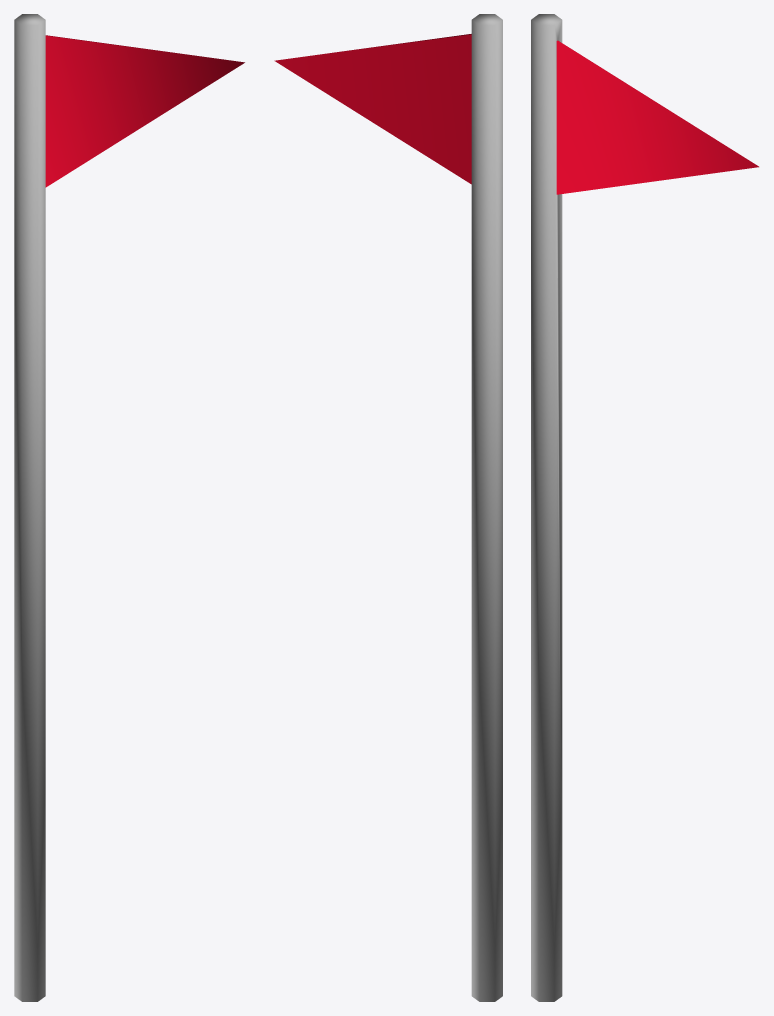
The model's file is FlagPole.fbx.
The picture shows the model from 3 angles, left to right: view 1: azimuth 30°, elevation 25°; view 2: azimuth 150°, elevation 25°; view 3: azimuth 330°, elevation 25°; orthographic projection.
Parts seen in each view (by area): view 1: Cylinder; view 2: Cylinder; view 3: Cylinder.
Boxes of the visible parts, x1=… form: Cylinder: x1=14, y1=14, x2=244, y2=1001; Cylinder: x1=274, y1=14, x2=502, y2=1001; Cylinder: x1=531, y1=14, x2=758, y2=1001.
Bounding box in the file's own units: 47.87 × 198 × 5.71.
